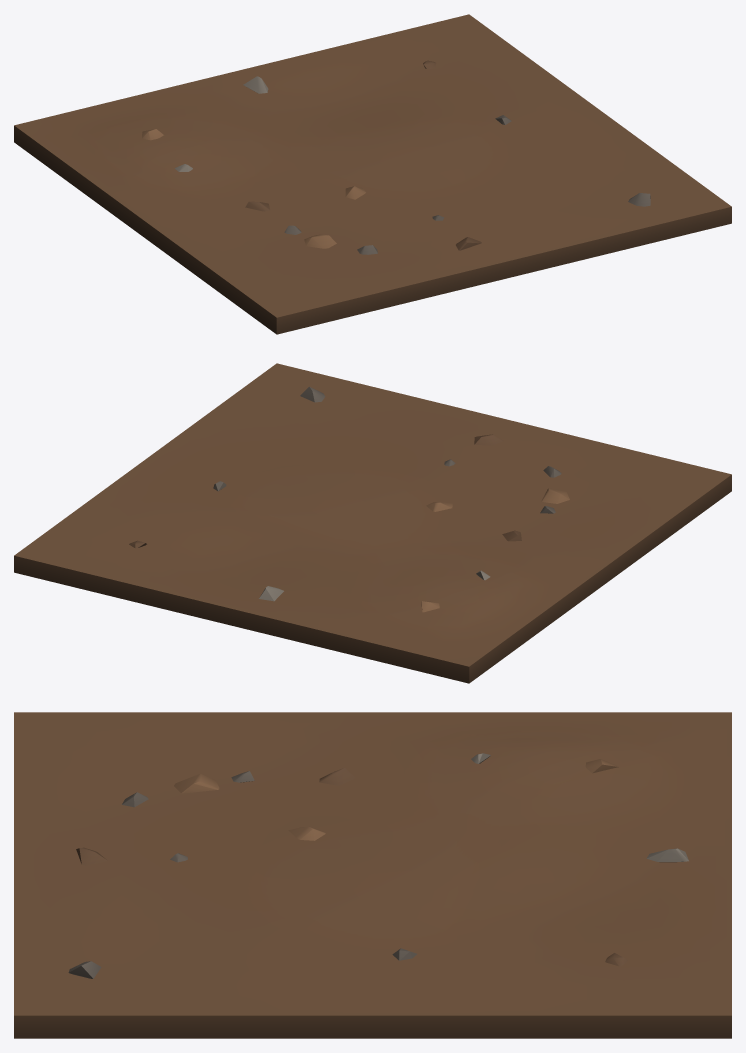
The model's file is floor_earth_large_A.glb.
3 views of the same model, one above another, from view 1: azimuth 30°, elevation 25°; view 2: azimuth 150°, elevation 25°; view 3: azimuth 270°, elevation 25° (orthographic). The views are drawn at different scales.
Parts seen in each view (by area): view 1: Item; view 2: Item; view 3: Item.
Part boxes in pixels (x1,y1,x2,y2): Item: (14, 14, 731, 334); Item: (14, 363, 731, 683); Item: (14, 712, 731, 1038).
Size of the model in its own units: 4 by 0.2185 by 4.
Materials: 1 (1 with a texture image).
